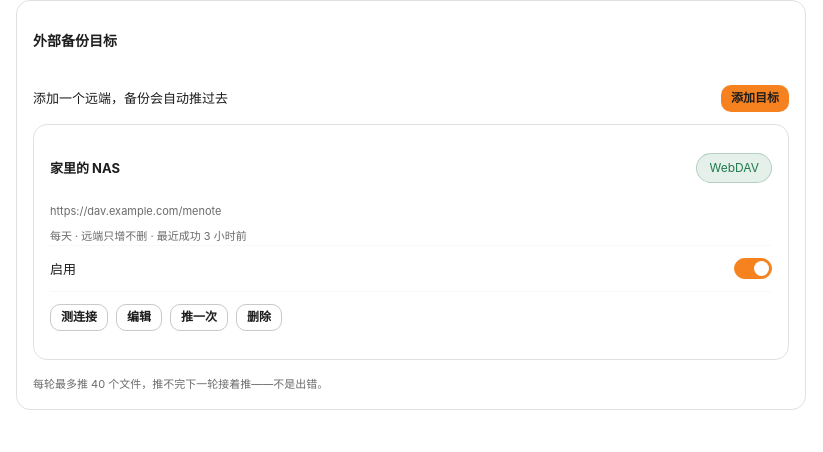
it: 外部备份目标 · 推一次 › 「推一次」的结果平铺在那一行上，且说清「还有 N 个没推完」不是出错
Expected: the text "家里的 NAS" is shown, [50,158,120,178]
Click the button "推一次" at (199, 318), box [170,304,228,331]
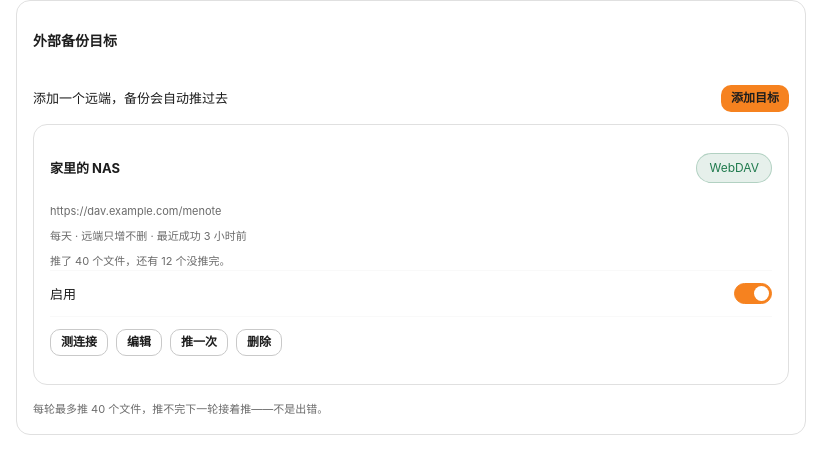
Now the text "推了 40 个文件，还有 12 个没推完。" is shown, box [50,254,231,268]
